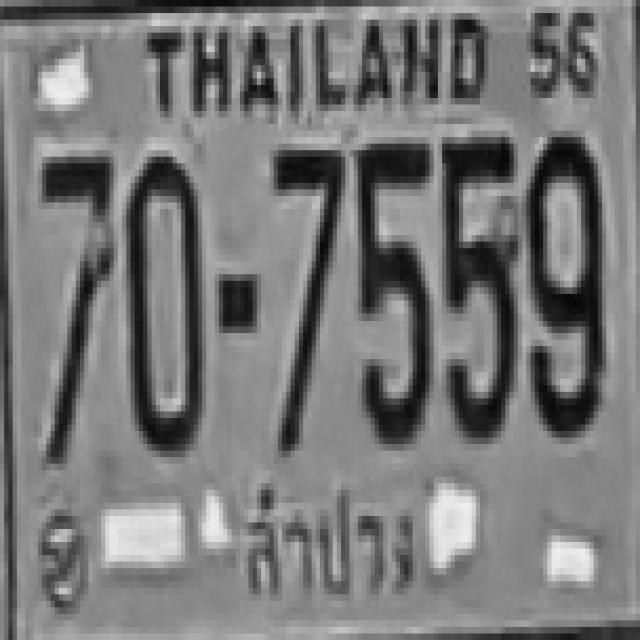0: (124, 147, 200, 447)
5: (438, 131, 514, 431), (354, 137, 429, 438)
7: (38, 150, 109, 457), (270, 144, 341, 450)
9: (522, 131, 602, 431)
Lampang: (238, 469, 428, 609)
